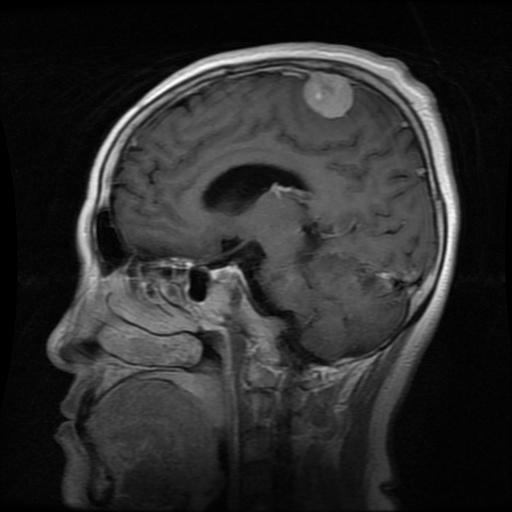meningioma: (303, 70, 353, 119)
